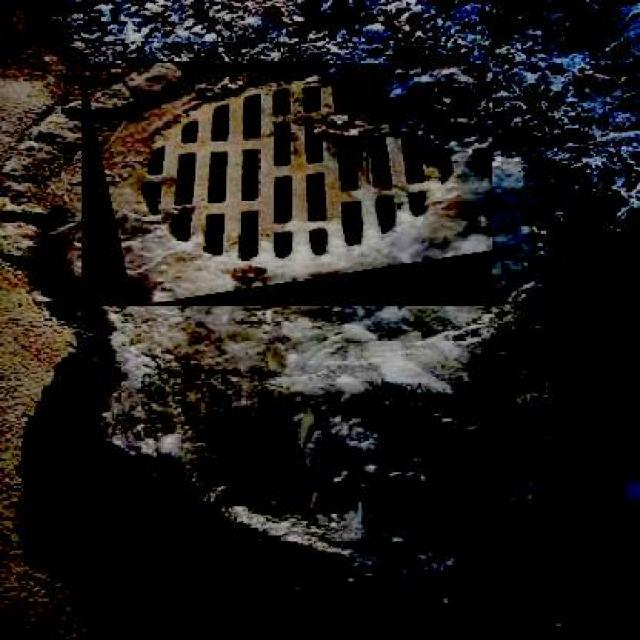Manhole: (81, 63, 492, 306)
Pothole: (10, 222, 112, 338)
